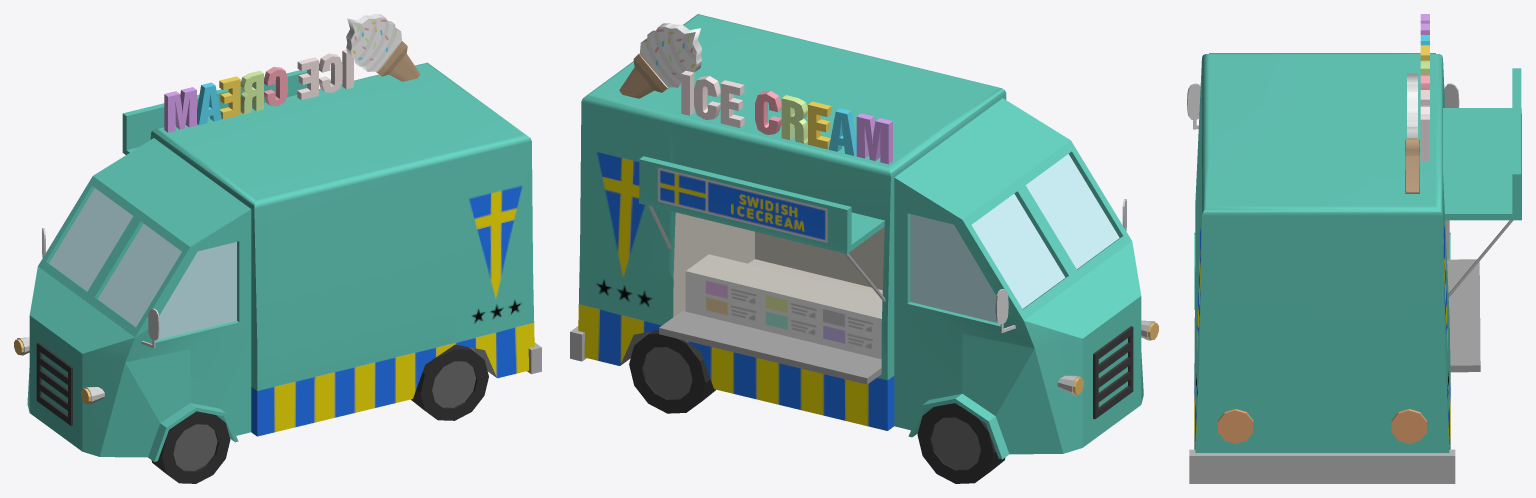
The model's file is fbx_foodtruck_Icecream.fbx.
The picture shows the model from 3 angles, left to right: view 1: azimuth 30°, elevation 25°; view 2: azimuth 150°, elevation 25°; view 3: azimuth 270°, elevation 25°; orthographic projection. The views are drawn at different scales.
Parts seen in each view (by area): view 1: fbx_foodtruck_Icecream; view 2: fbx_foodtruck_Icecream; view 3: fbx_foodtruck_Icecream.
Part boxes in pixels (x1,y1,x2,y2): fbx_foodtruck_Icecream: (14, 14, 541, 483); fbx_foodtruck_Icecream: (570, 14, 1158, 483); fbx_foodtruck_Icecream: (1187, 14, 1521, 483).
Size of the model in its own units: 6.28 by 4.64 by 3.6.
Materials: 1 (1 with a texture image).
